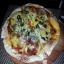pizza: (4, 4, 56, 62)
